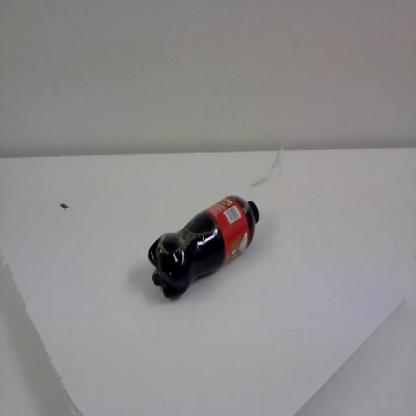bottle: (147, 190, 266, 302)
